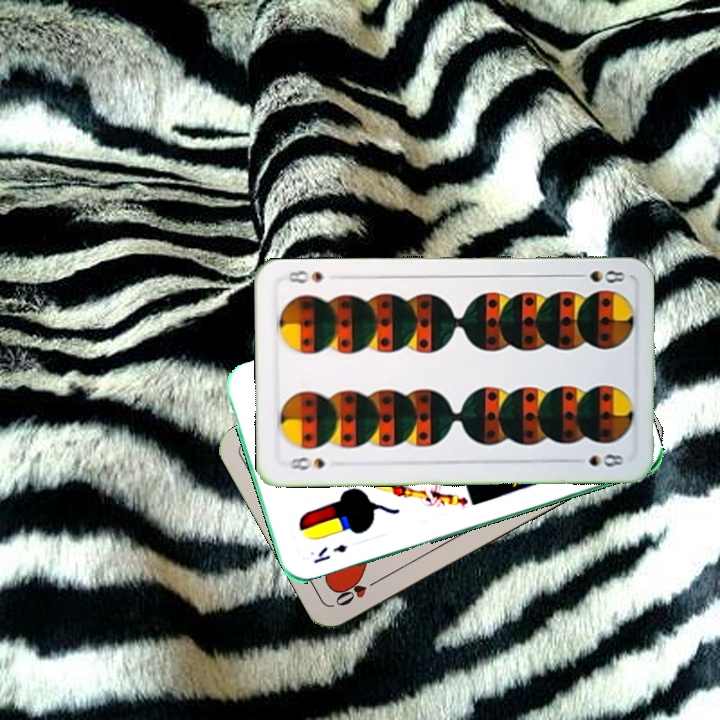EK: (309, 540, 350, 566)
HO: (331, 573, 385, 609)
S8: (569, 264, 628, 286), (281, 452, 327, 472)
